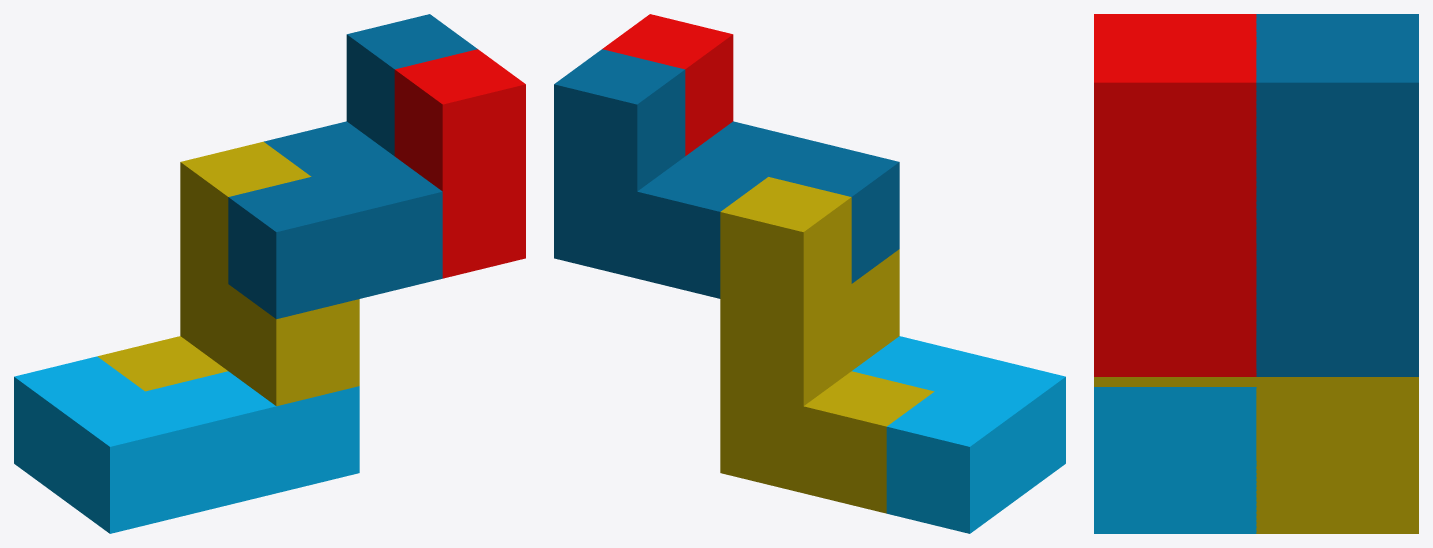
The picture shows the model from 3 angles, left to right: view 1: azimuth 30°, elevation 25°; view 2: azimuth 150°, elevation 25°; view 3: azimuth 270°, elevation 25°; orthographic projection. The views are drawn at different scales.
Visible parts, largest first — view 1: mergedBlocks(Clone); view 2: mergedBlocks(Clone); view 3: mergedBlocks(Clone).
Part boxes in pixels (x1,y1,x2,y2): mergedBlocks(Clone): (14,14,525,533); mergedBlocks(Clone): (554,14,1065,533); mergedBlocks(Clone): (1094,14,1418,533).
Bounding box in the file's own units: 5 × 4 × 2.
Materials: 4 (4 with a texture image).
